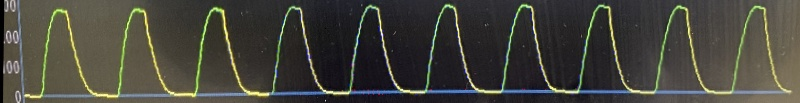normal_volume: (21, 0, 799, 103)
